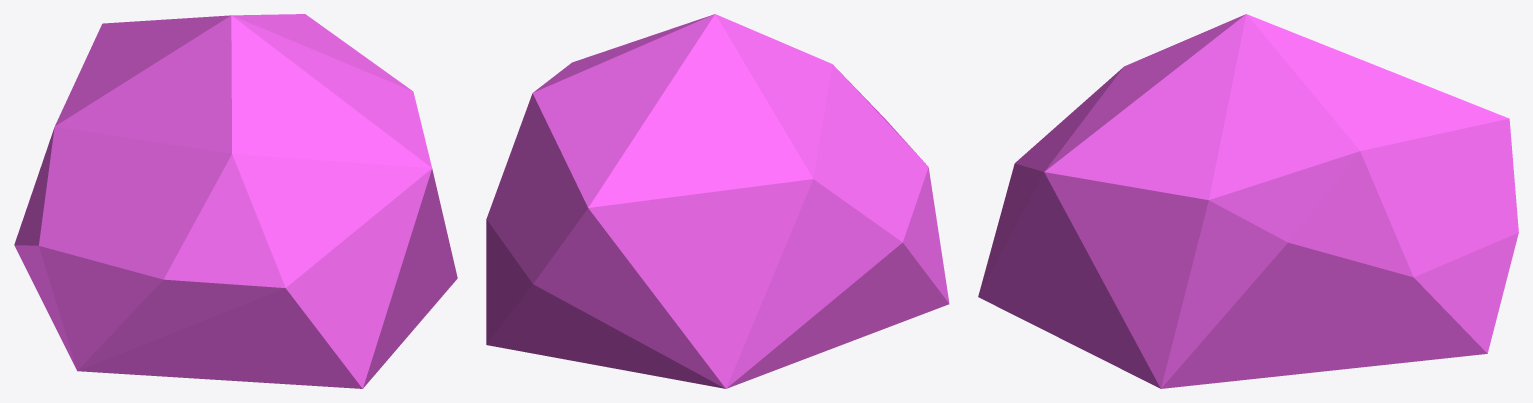
The model's file is Bush 1.fbx.
The picture shows the model from 3 angles, left to right: view 1: azimuth 30°, elevation 25°; view 2: azimuth 150°, elevation 25°; view 3: azimuth 270°, elevation 25°; orthographic projection. The views are drawn at different scales.
Parts seen in each view (by area): view 1: Bush 1; view 2: Bush 1; view 3: Bush 1.
Part boxes in pixels (x1=…): Bush 1: x1=14, y1=14, x2=457, y2=388; Bush 1: x1=486, y1=14, x2=949, y2=388; Bush 1: x1=978, y1=14, x2=1518, y2=388.
Bounding box in the file's own units: 134 × 93.48 × 162.
Materials: 1 (1 with a texture image).
